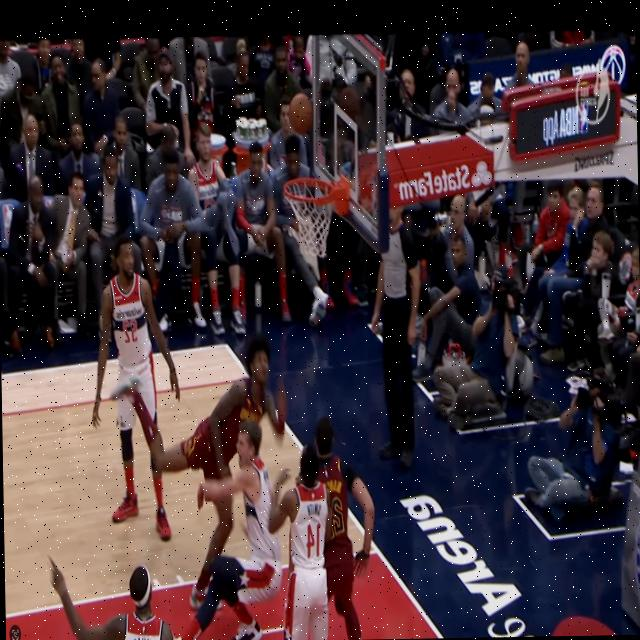foul: (150, 320, 310, 616)
no foul: (77, 219, 172, 570), (285, 409, 390, 640), (43, 557, 184, 640)
